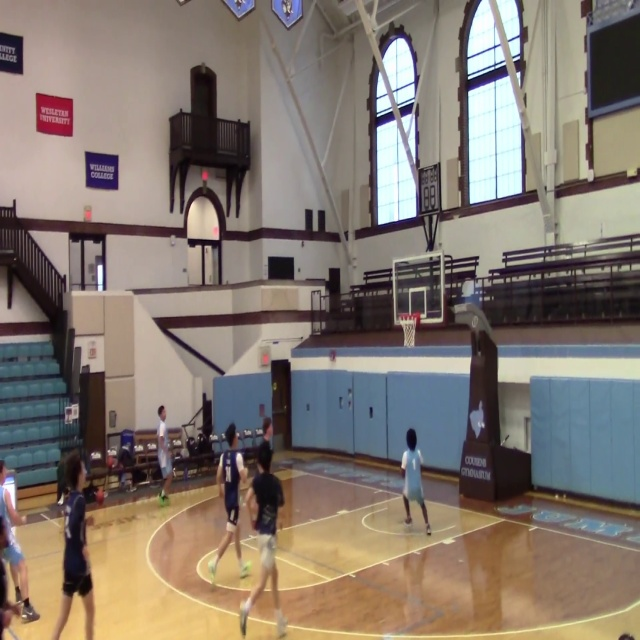Basketball: (239, 561, 252, 578), (1, 609, 12, 628), (208, 560, 216, 577)
